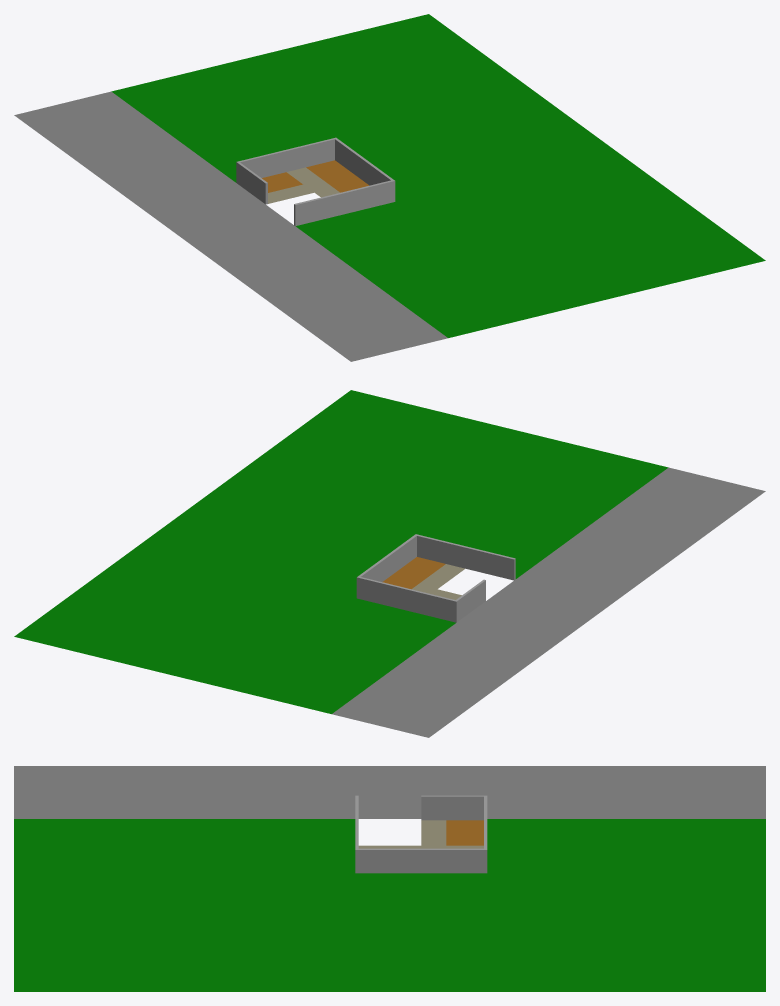
The model's file is Landscape.fbx.
3 renders of one model, top to bottom at view 1: azimuth 30°, elevation 25°; view 2: azimuth 150°, elevation 25°; view 3: azimuth 270°, elevation 25°, orthographic. The views are drawn at different scales.
Visible parts, largest first — view 1: Plane; view 2: Plane; view 3: Plane.
Boxes of the visible parts, x1,y1,x2,y2 form: Plane: [14, 14, 765, 361]; Plane: [14, 390, 765, 737]; Plane: [14, 766, 765, 991].
Bounding box in the file's own units: 4264 × 207 × 6000.
